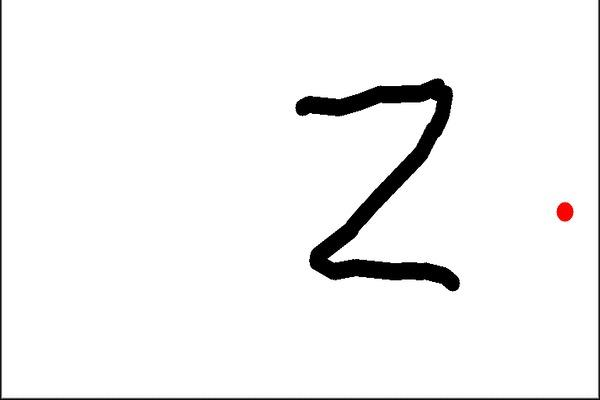Z: (290, 74, 468, 297)
